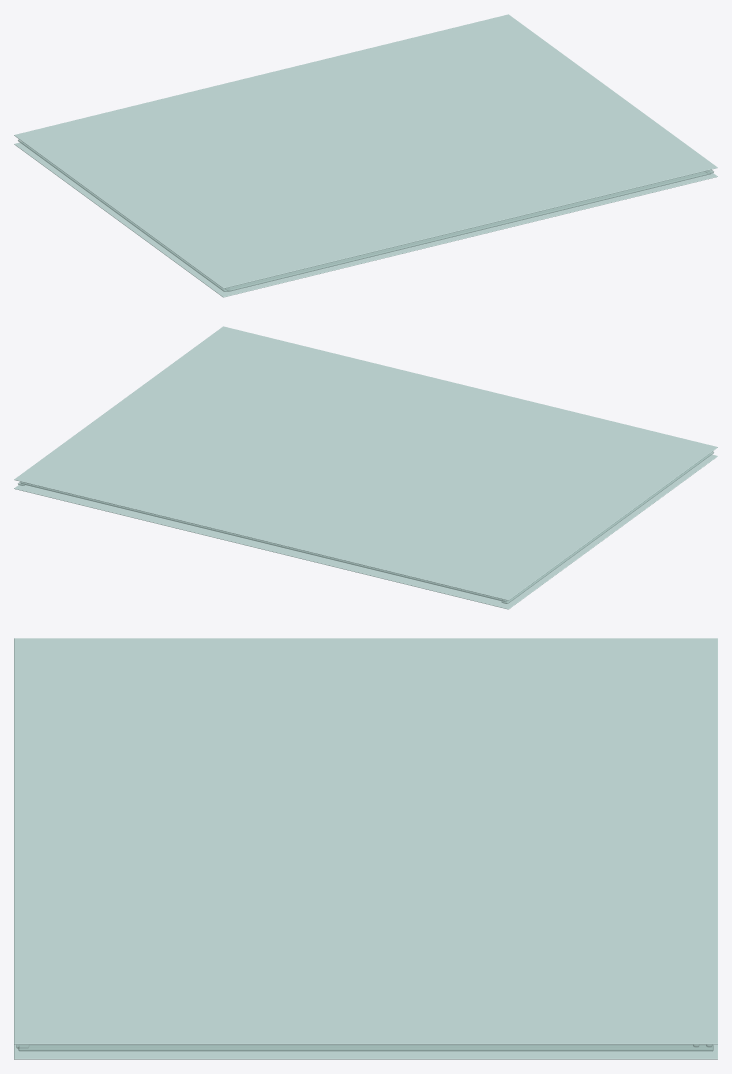
File: diagram.glb
3 renders of one model, top to bottom at view 1: azimuth 30°, elevation 25°; view 2: azimuth 150°, elevation 25°; view 3: azimuth 270°, elevation 25°, orthographic. The views are drawn at different scales.
Parts seen in each view (by area): view 1: Clear sleeve front, Clear sleeve back, Bottom sleeve weld, Heat welded side seam; view 2: Clear sleeve front, Clear sleeve back, Sleeve press seal.001, Heat welded side seam; view 3: Clear sleeve front, Clear sleeve back, Heat welded side seam.001.
Boxes of the visible parts, bbox=[...] form: Clear sleeve front: bbox=[14, 14, 717, 288]; Clear sleeve back: bbox=[14, 142, 717, 297]; Bottom sleeve weld: bbox=[225, 170, 711, 291]; Heat welded side seam: bbox=[18, 139, 229, 291]; Clear sleeve front: bbox=[14, 326, 717, 600]; Clear sleeve back: bbox=[14, 454, 717, 609]; Sleeve press seal.001: bbox=[20, 482, 506, 601]; Heat welded side seam: bbox=[501, 451, 713, 603]; Clear sleeve front: bbox=[14, 638, 717, 1044]; Clear sleeve back: bbox=[14, 1044, 717, 1059]; Heat welded side seam.001: bbox=[18, 1044, 713, 1051].
Bounding box in the file's own units: 0.221 × 0.00405 × 0.162.
